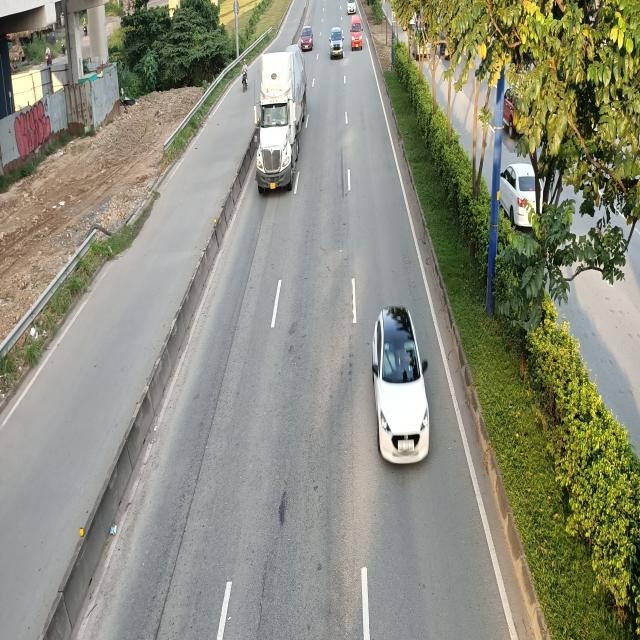car: (373, 305, 432, 465), (330, 27, 344, 58)
container: (254, 47, 309, 195)
van: (350, 16, 364, 50)
